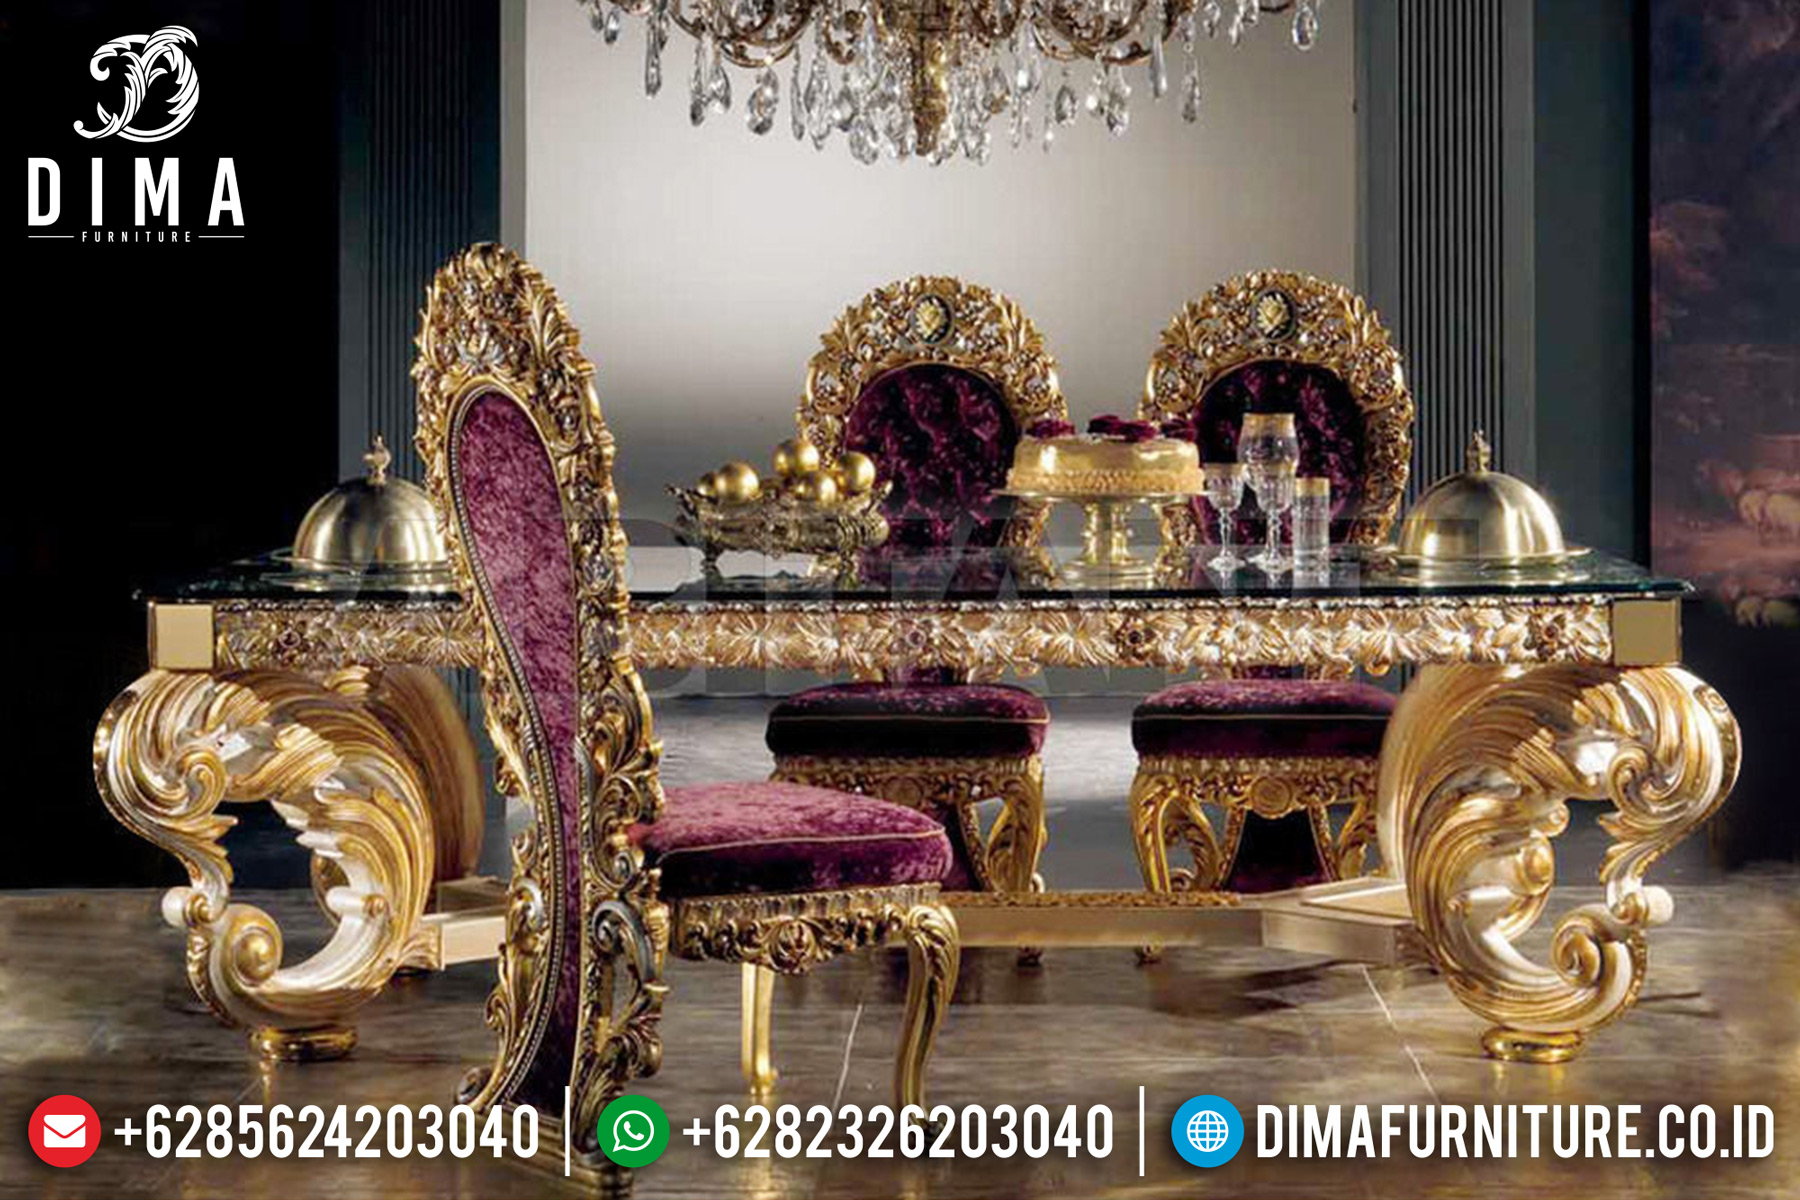Carving Chair: (408, 258, 951, 1200)
Carving Table: (167, 487, 1734, 1092)
